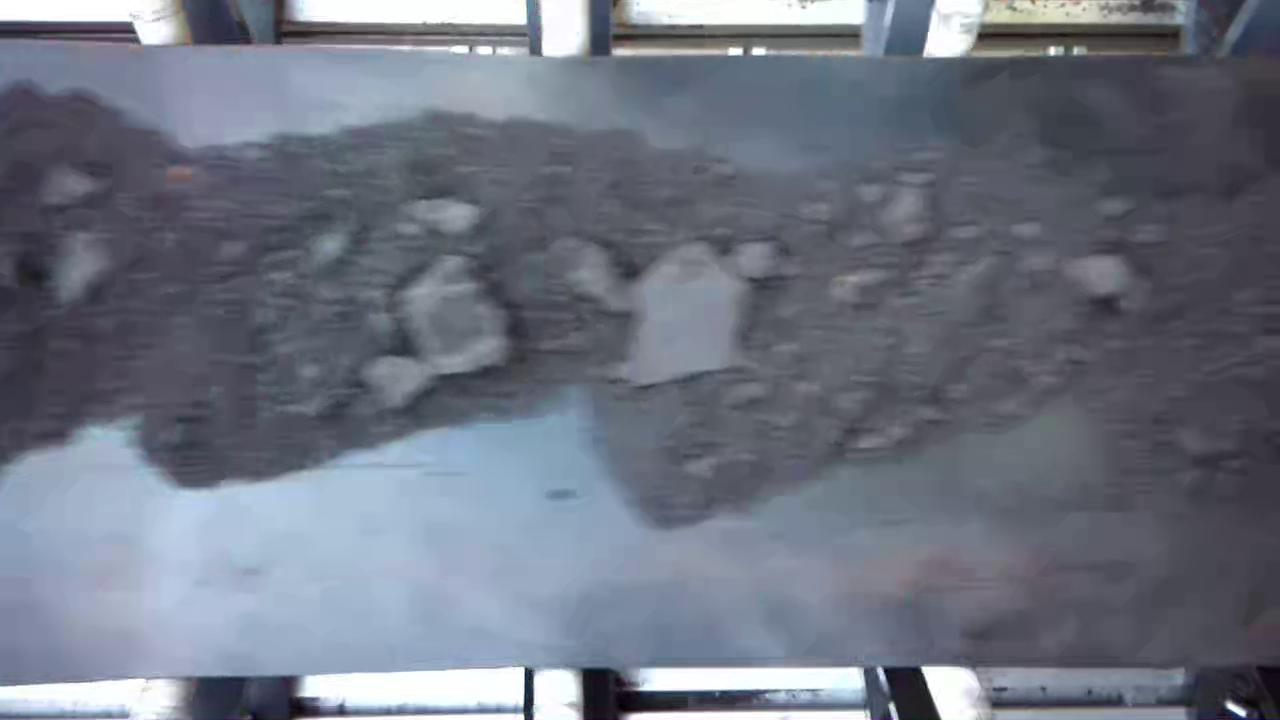conveyor: (13, 67, 1280, 652)
